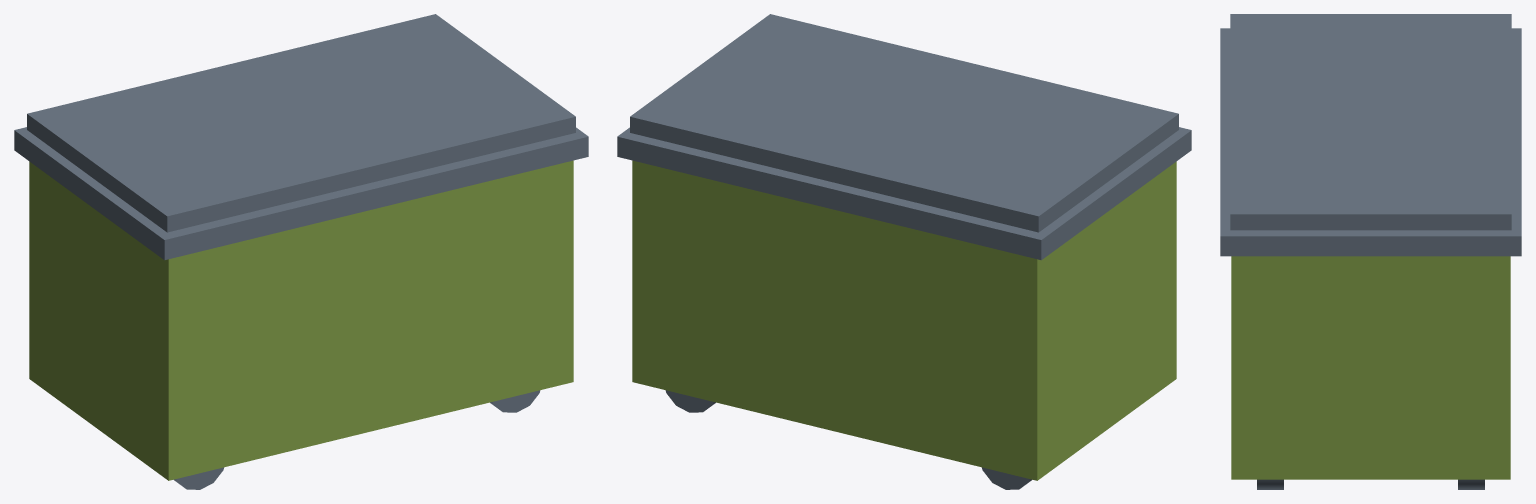
Rendered from dumpster_metal_green.glb.
The picture shows the model from 3 angles, left to right: view 1: azimuth 30°, elevation 25°; view 2: azimuth 150°, elevation 25°; view 3: azimuth 270°, elevation 25°; orthographic projection.
Visible parts, largest first — view 1: dumpster_metal_green, dumpster_lid_pivot; view 2: dumpster_metal_green, dumpster_lid_pivot; view 3: dumpster_metal_green, dumpster_lid_pivot.
Boxes of the visible parts, <box> form: dumpster_metal_green: <box>14,127,588,489</box>; dumpster_lid_pivot: <box>27,14,575,232</box>; dumpster_metal_green: <box>617,127,1191,489</box>; dumpster_lid_pivot: <box>630,14,1178,232</box>; dumpster_metal_green: <box>1220,28,1521,489</box>; dumpster_lid_pivot: <box>1230,14,1511,230</box>.
Size of the model in its own units: 2.2 by 1.46 by 1.35.
